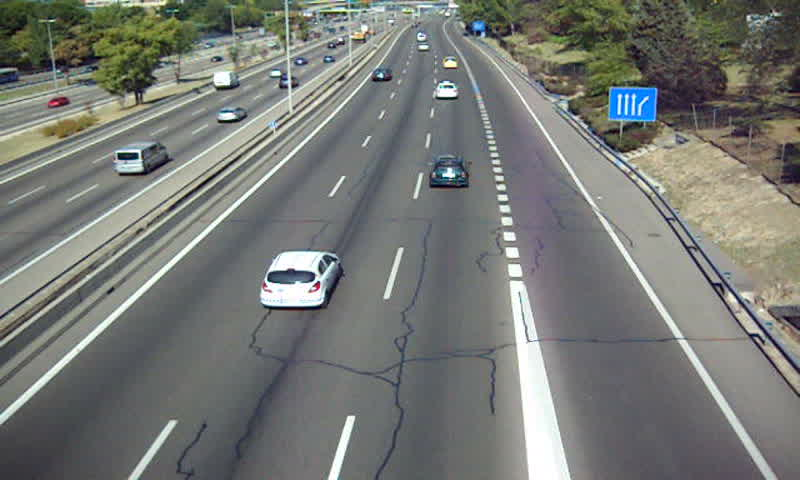car: (261, 251, 342, 308), (430, 155, 469, 187), (434, 80, 460, 99), (369, 70, 391, 83)
